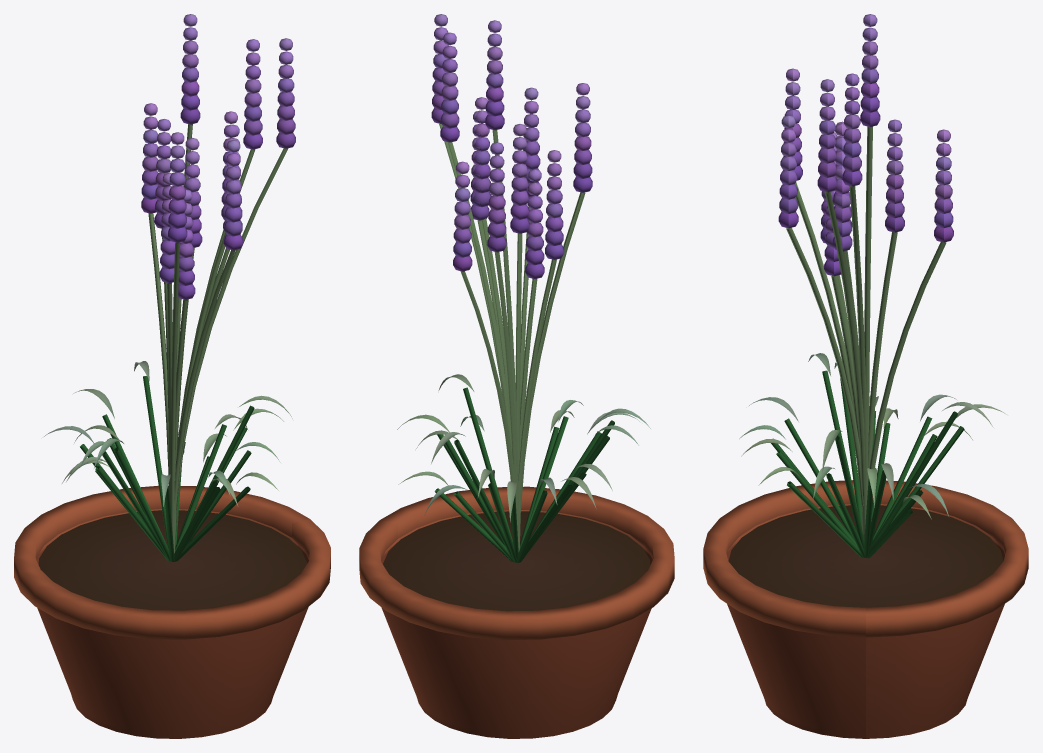
Rendered from lavanda.glb.
3 views of the same model, side by side, from view 1: azimuth 30°, elevation 25°; view 2: azimuth 150°, elevation 25°; view 3: azimuth 270°, elevation 25° (orthographic). The views are drawn at different scales.
Parts seen in each view (by area): view 1: lavanda; view 2: lavanda; view 3: lavanda.
Boxes of the visible parts, box(x1,y1,x2,y2) form: lavanda: box(14, 14, 330, 738); lavanda: box(359, 14, 674, 738); lavanda: box(703, 14, 1028, 738).
Bounding box in the file's own units: 0.1696 × 0.398 × 0.1696.
